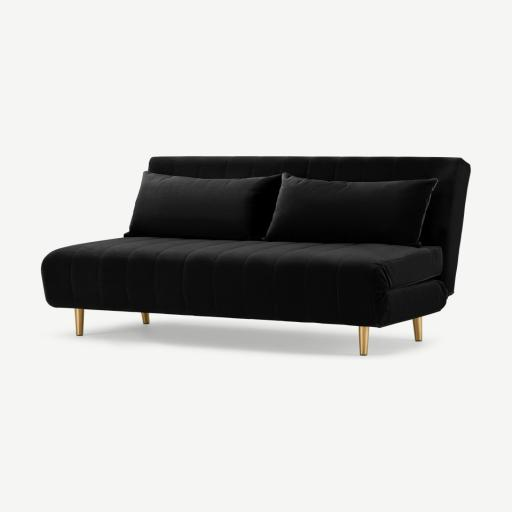back_cushion: (129, 172, 437, 245)
legs: (359, 326, 369, 355), (75, 308, 84, 336), (413, 317, 422, 341), (141, 312, 149, 324)
seat_cushion: (42, 237, 447, 327)
two-seater: (0, 0, 511, 512)
